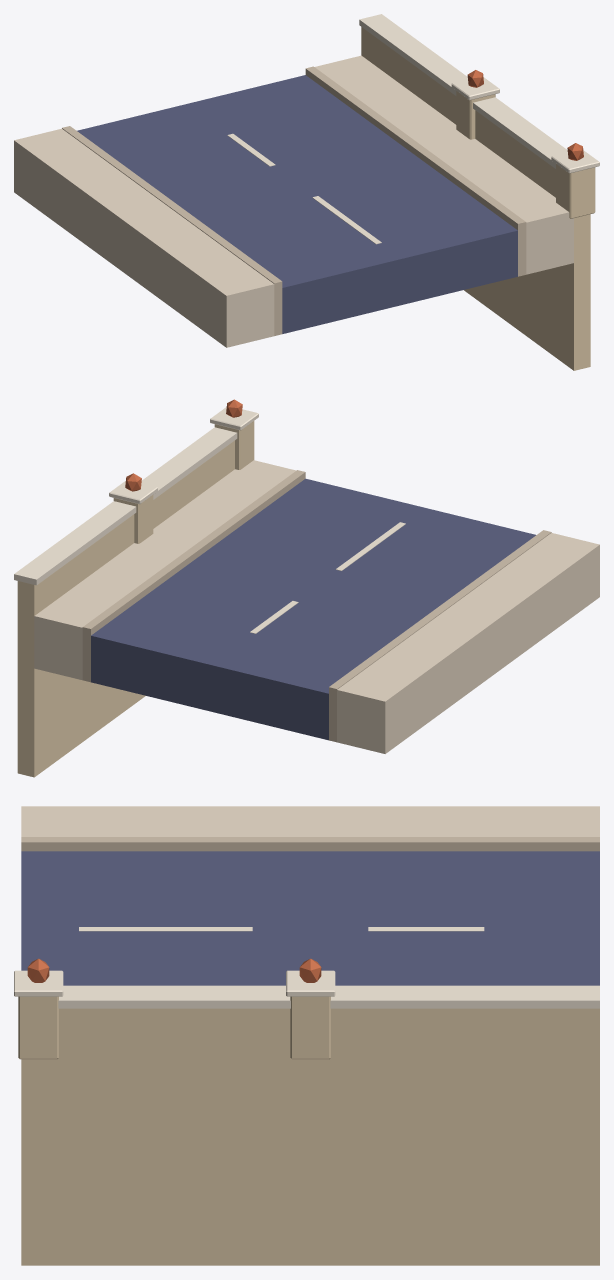
File: road_coast.glb
3 renders of one model, top to bottom at view 1: azimuth 30°, elevation 25°; view 2: azimuth 150°, elevation 25°; view 3: azimuth 270°, elevation 25°, orthographic. The views are drawn at different scales.
Parts seen in each view (by area): view 1: road_coast; view 2: road_coast; view 3: road_coast.
Boxes of the visible parts, x1,y1,x2,y2 form: road_coast: (14, 14, 599, 370); road_coast: (14, 399, 599, 777); road_coast: (14, 806, 599, 1265).
Size of the model in its own units: 10.09 by 5.75 by 10.12.
